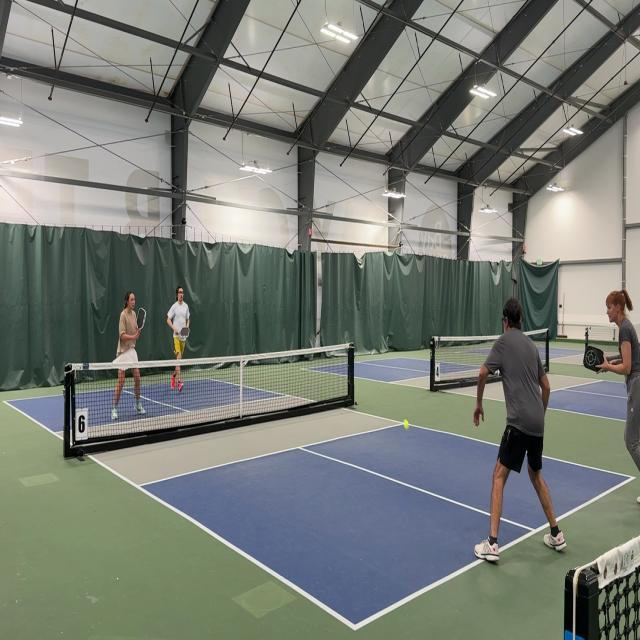ball: (403, 419, 410, 433)
